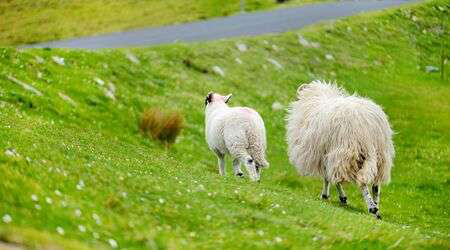koyun: (282, 79, 394, 221), (203, 90, 271, 185)
